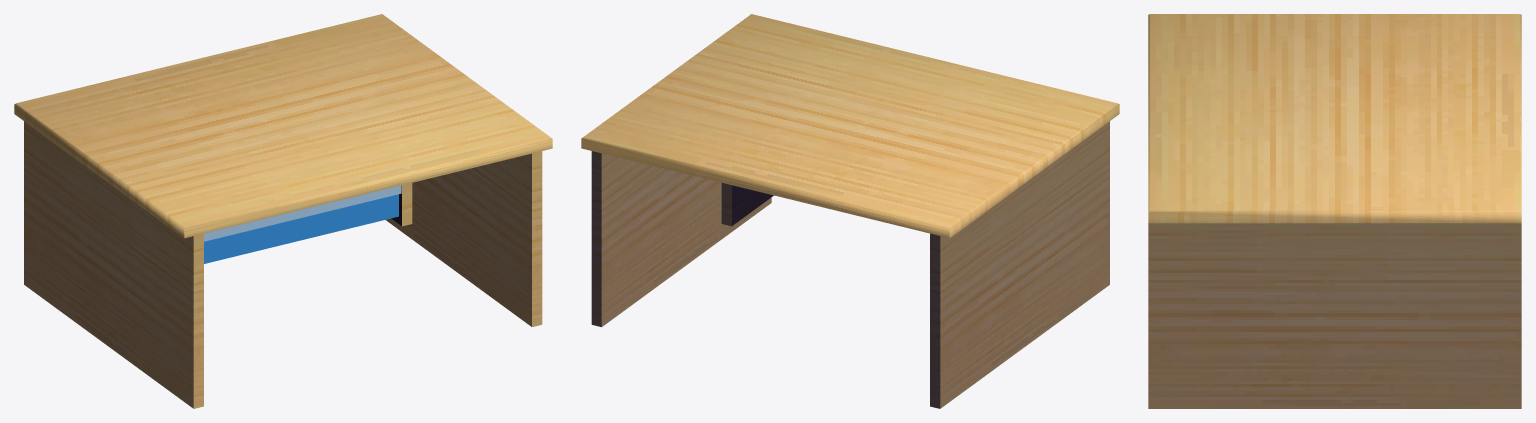
3 renders of one model, left to right at view 1: azimuth 30°, elevation 25°; view 2: azimuth 150°, elevation 25°; view 3: azimuth 270°, elevation 25°, orthographic. The views are drawn at different scales.
Visible parts, largest first — view 1: Joint_0_Object_0, Joint_0_Object_1, Joint_0_Object_2; view 2: Joint_0_Object_0, Joint_0_Object_1; view 3: Joint_0_Object_0, Joint_0_Object_1.
Part boxes in pixels (x1,y1,x2,y2): Joint_0_Object_0: (14, 14, 552, 238); Joint_0_Object_1: (24, 121, 542, 408); Joint_0_Object_2: (204, 185, 401, 263); Joint_0_Object_0: (581, 14, 1119, 238); Joint_0_Object_1: (591, 121, 1109, 408); Joint_0_Object_0: (1148, 14, 1521, 223); Joint_0_Object_1: (1148, 223, 1521, 408).
Size of the model in its own units: 3206 by 1539 by 2559.
3 materials, 2 textured.
